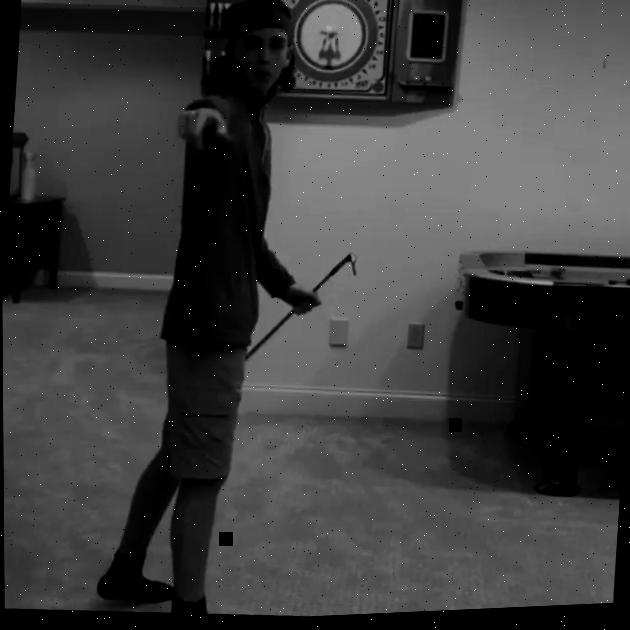ClubHead: (346, 255, 359, 281)
